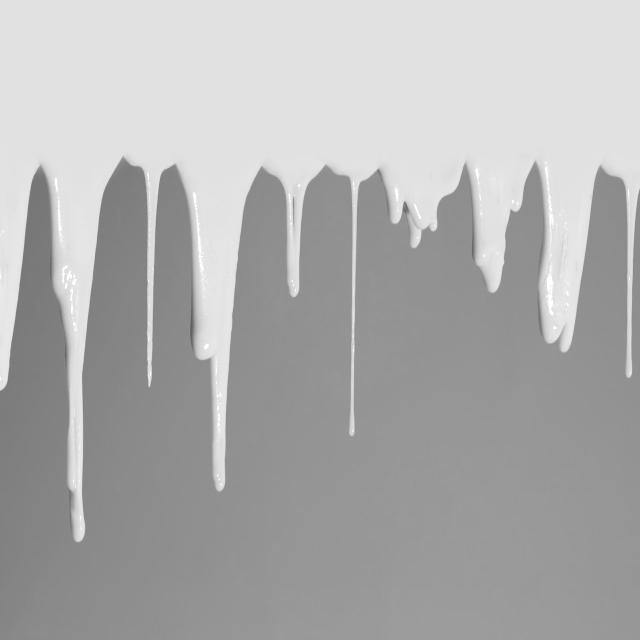paint drips: (172, 47, 391, 557), (5, 18, 208, 564), (337, 86, 530, 462), (519, 138, 637, 492)
